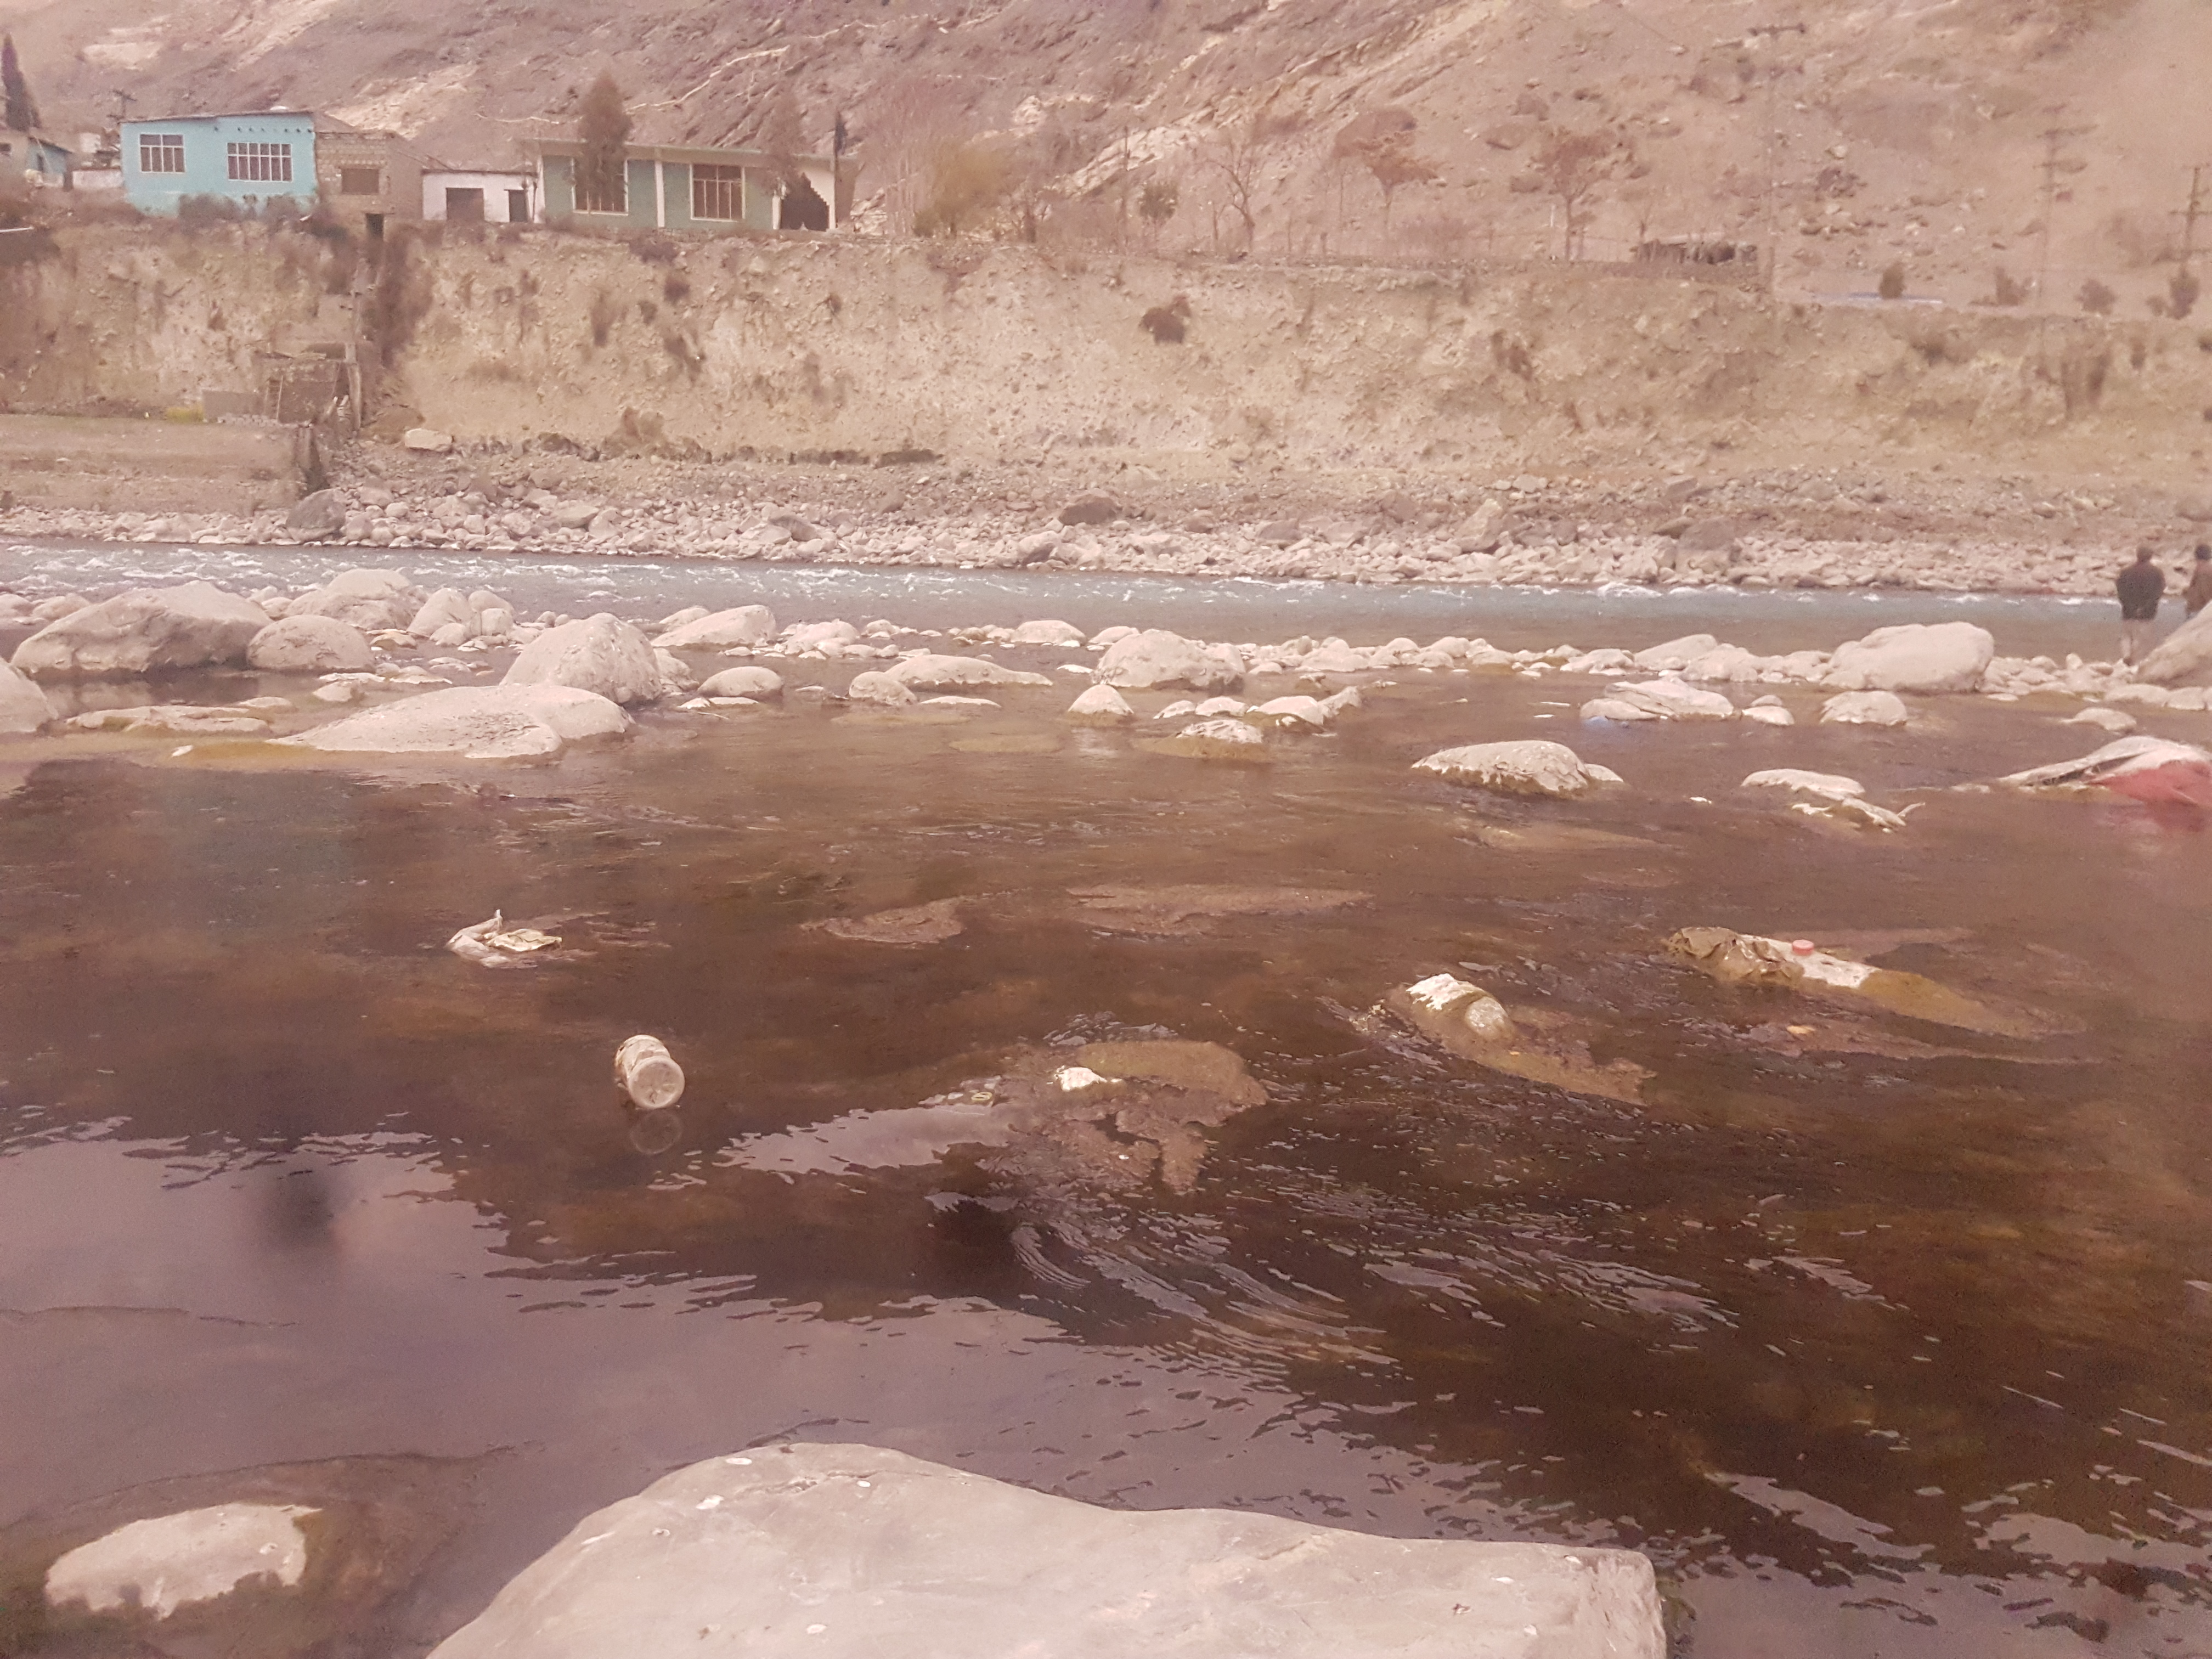Plastic Bottle: (615, 1033, 685, 1110), (1587, 716, 1609, 725)
